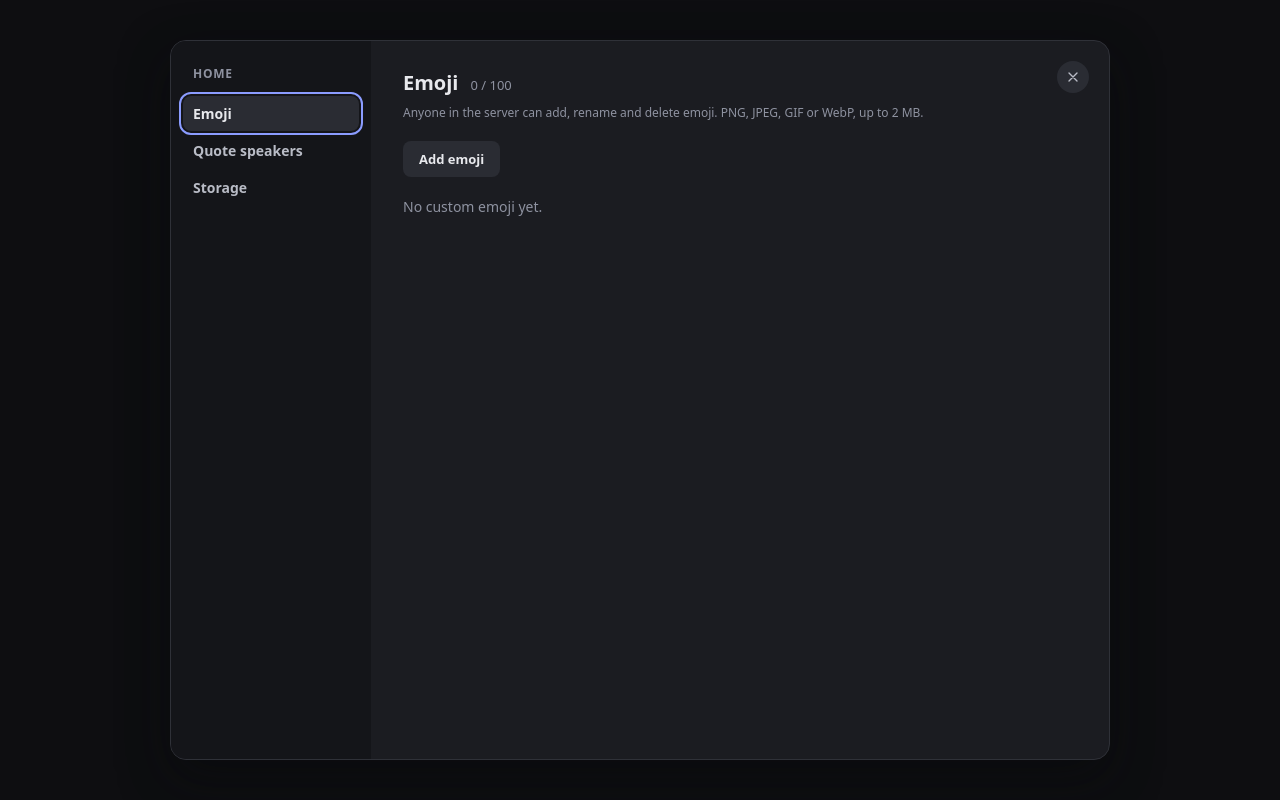
Scenario: ServerSettings dialog › says when no names are linked
This screenshot has width=1280, height=800.
Click the button "Quote speakers". click: (271, 150)
box: x1=183 y1=133 x2=359 y2=168
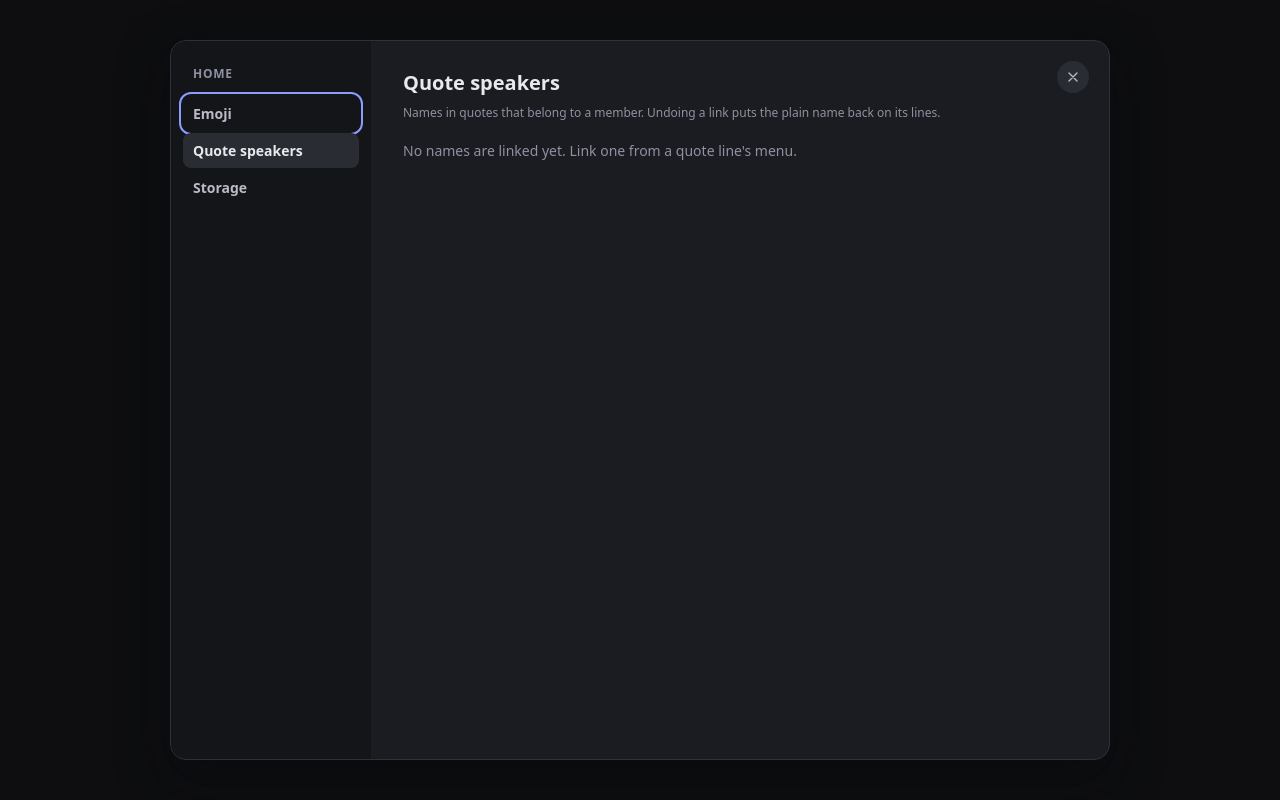
Result: the element that starts with "Quote speakers" shows "No names are linked yet" at x1=403 y1=141 x2=797 y2=160
